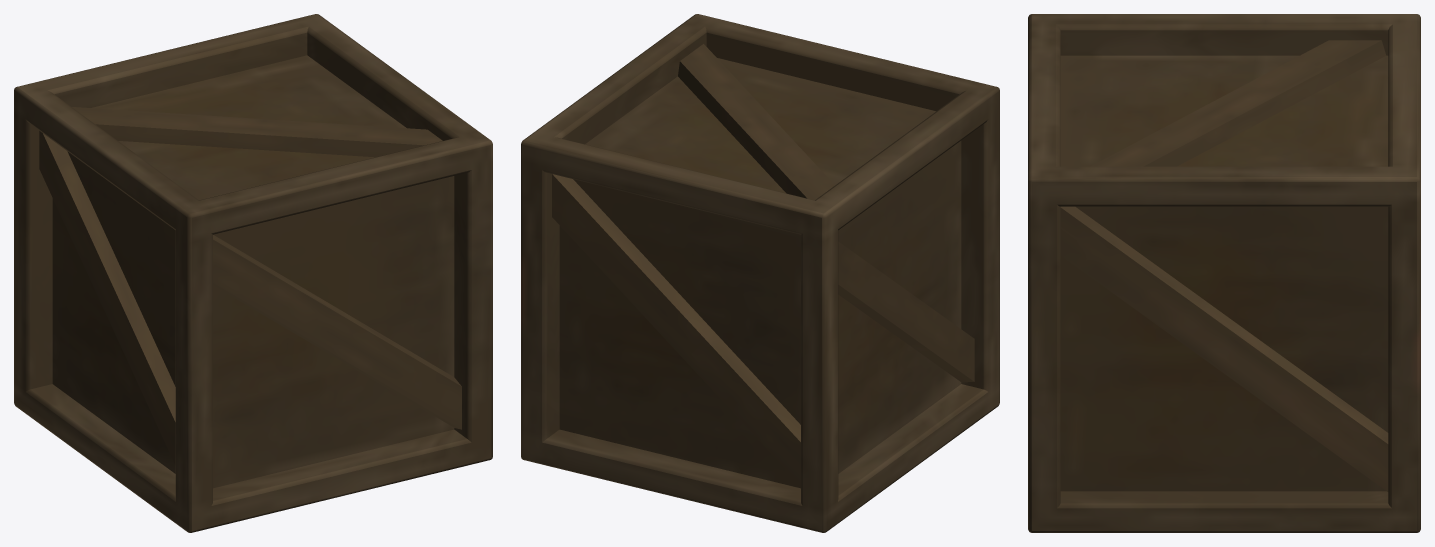
The model's file is crate.fbx.
3 views of the same model, side by side, from view 1: azimuth 30°, elevation 25°; view 2: azimuth 150°, elevation 25°; view 3: azimuth 270°, elevation 25° (orthographic). The views are drawn at different scales.
Visible parts, largest first — view 1: Cube; view 2: Cube; view 3: Cube.
Part boxes in pixels (bbox=[...]): Cube: bbox=[14, 14, 492, 532]; Cube: bbox=[521, 14, 999, 532]; Cube: bbox=[1028, 14, 1420, 532].
Size of the model in its own units: 200 by 200 by 200.
